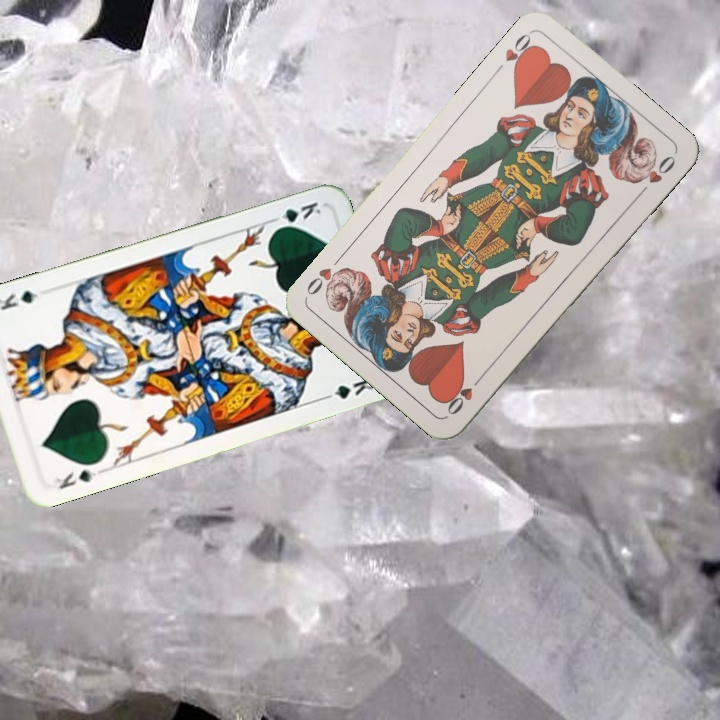GK: (267, 197, 324, 233), (51, 465, 104, 492)
HO: (442, 370, 487, 418), (501, 28, 540, 75)
